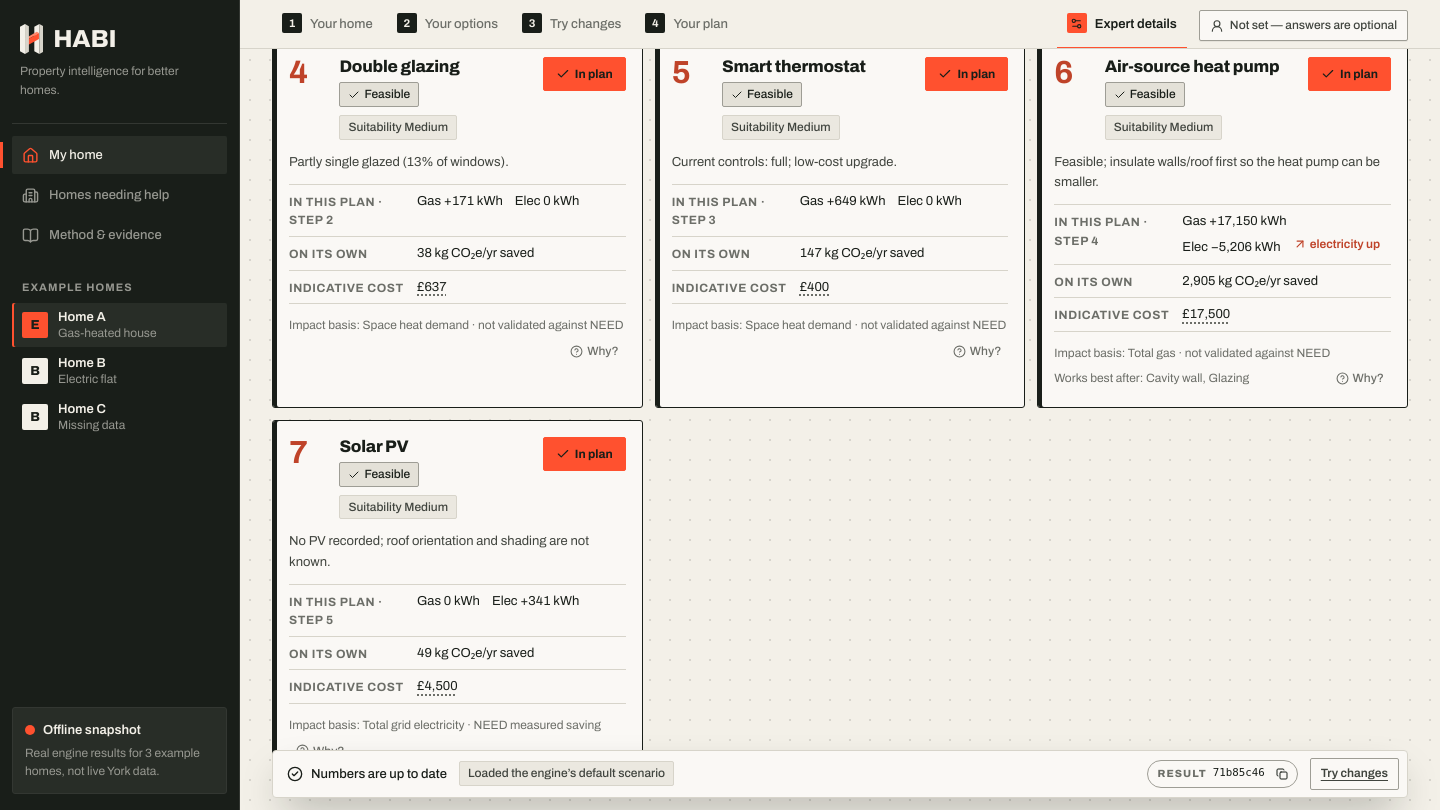
Test: My Home: demo home A (Poor gas house) › recalculates a what-if: removing a measure gives a new confirmed scenario everywhere
(page scrolled)
Click the button with aria-label "Remove Solar PV from the scenario".
click(584, 454)  # box [543,437,626,471]
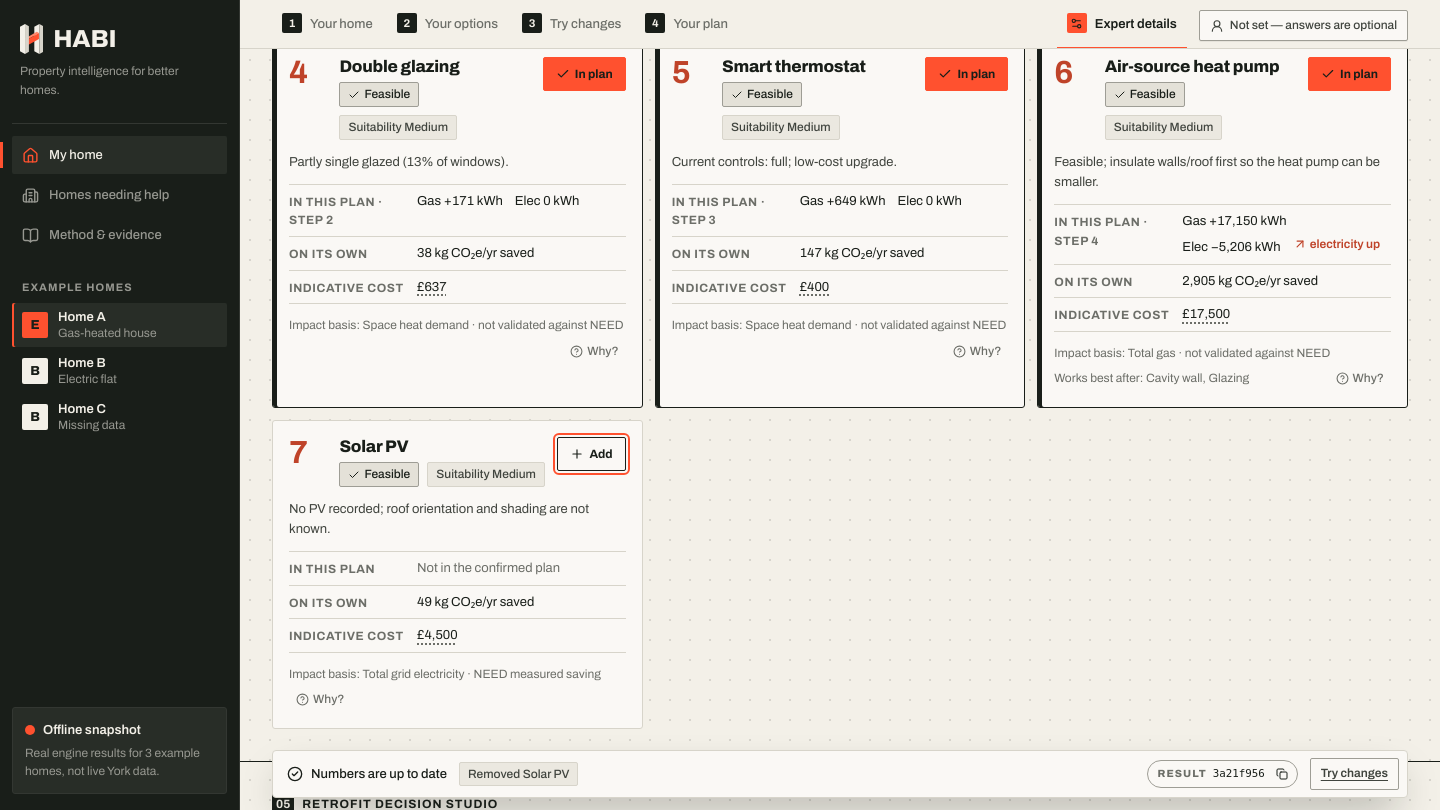
Expected: the button with aria-label "Add Solar PV to the scenario" is shown, [557,437,626,471]
